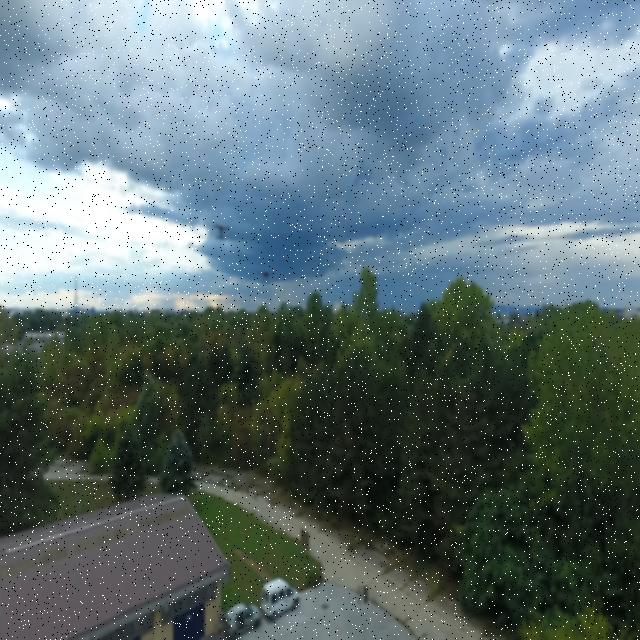UAV: (200, 215, 242, 249), (248, 263, 286, 288)
